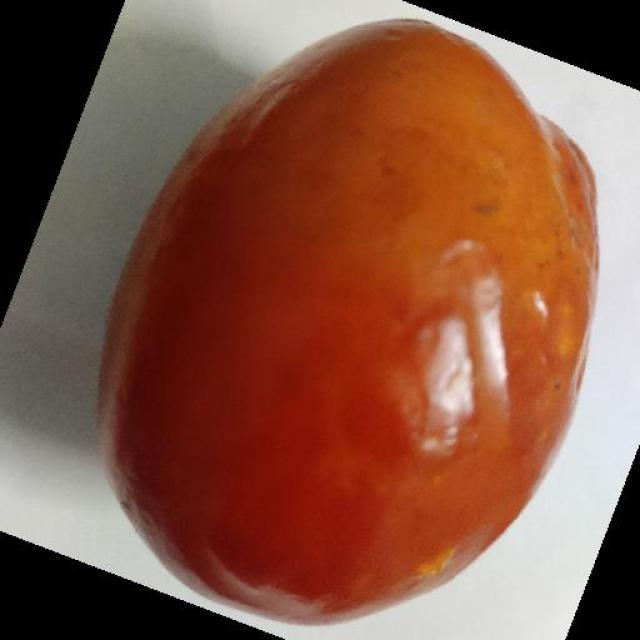Stale_tomato: (112, 32, 576, 612)
